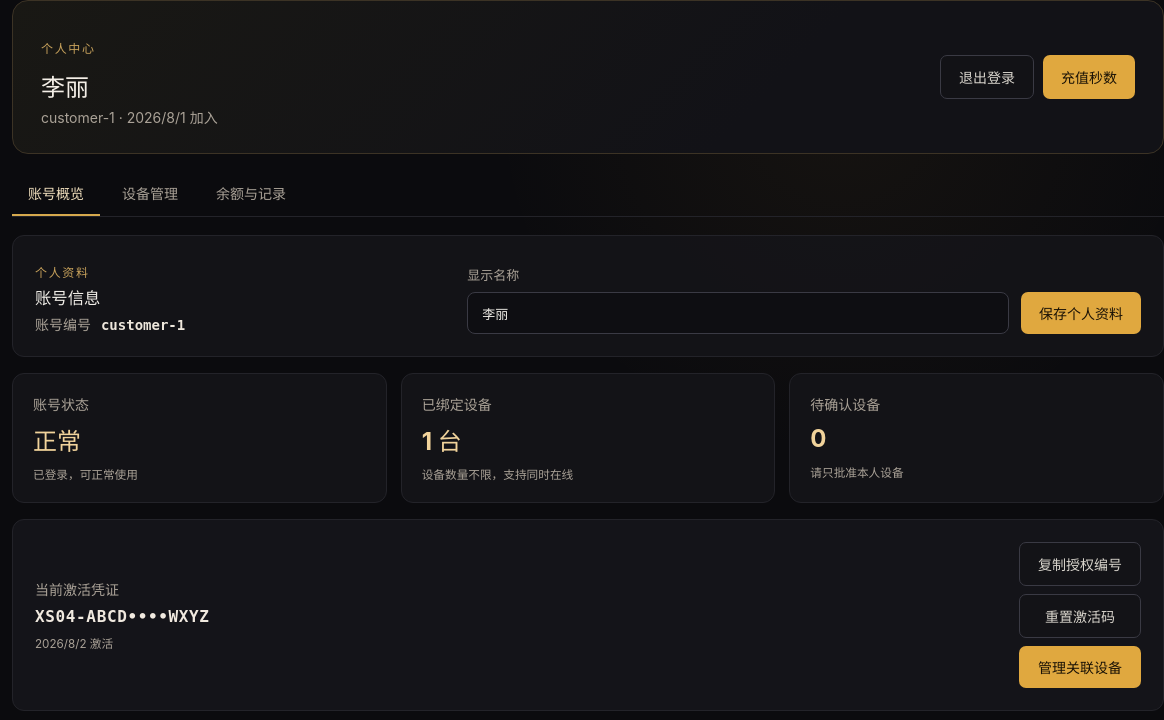
Test: CustomerProfilePanel › groups account, activation and device details in the personal centre
Expected: the heading "李丽" is shown, [41,73,89,102]
Expected: the text "XS04-ABCD••••WXYZ" is shown, [35,607,210,626]
Click the button "设备管理": (150, 194) [106,172,194,216]
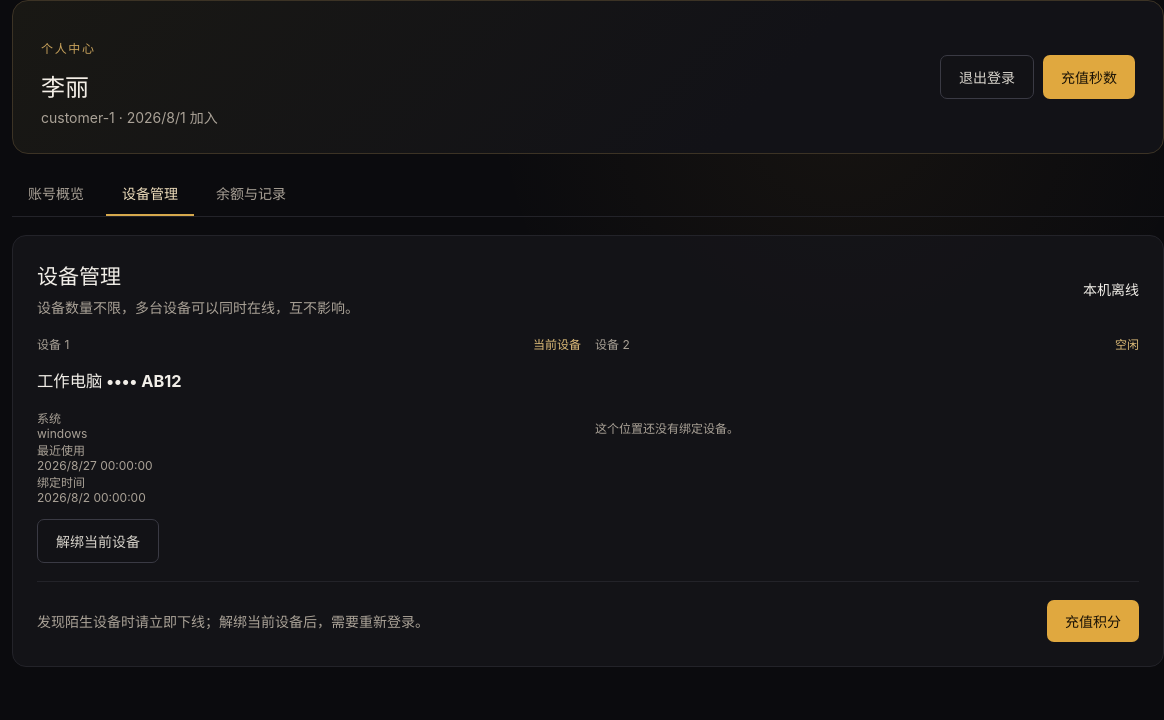
Expected: the heading "工作电脑 •••• AB12" is shown, [37,371,182,391]
Expected: the text "这个位置还没有绑定设备。" is shown, [595,418,739,436]
